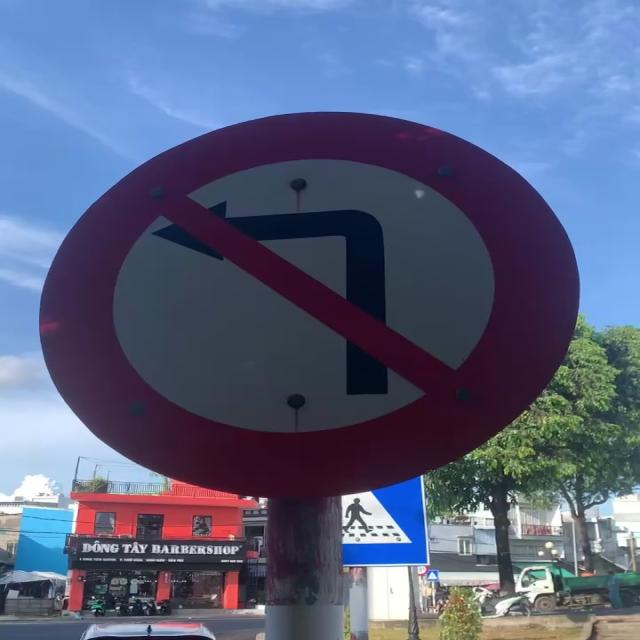Cam_Re_Trai: (41, 108, 576, 505)
